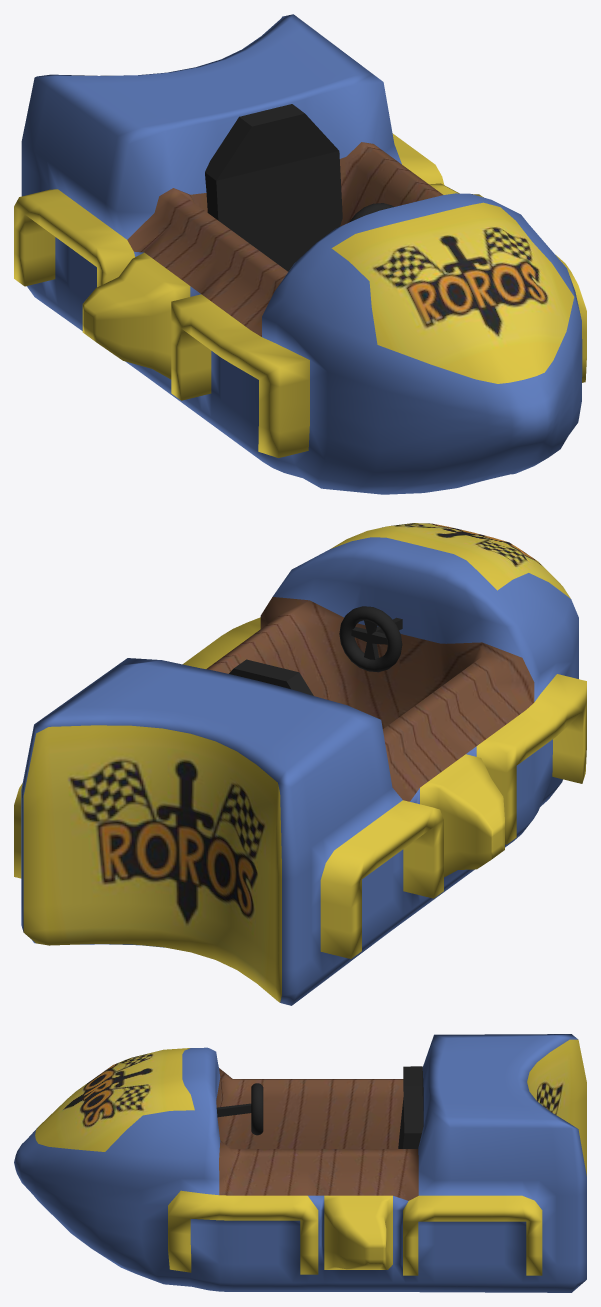
Rendered from Carro_Espadachin.fbx.
3 views of the same model, one above another, from view 1: azimuth 30°, elevation 25°; view 2: azimuth 150°, elevation 25°; view 3: azimuth 270°, elevation 25° (orthographic). The views are drawn at different scales.
Parts seen in each view (by area): view 1: polySurface140; view 2: polySurface140; view 3: polySurface140.
Part boxes in pixels (x1,y1,x2,y2): polySurface140: (14,14,586,494); polySurface140: (14,523,586,1005); polySurface140: (14,1034,586,1292).
Size of the model in its own units: 460 by 265 by 741.
1 material, 1 textured.
